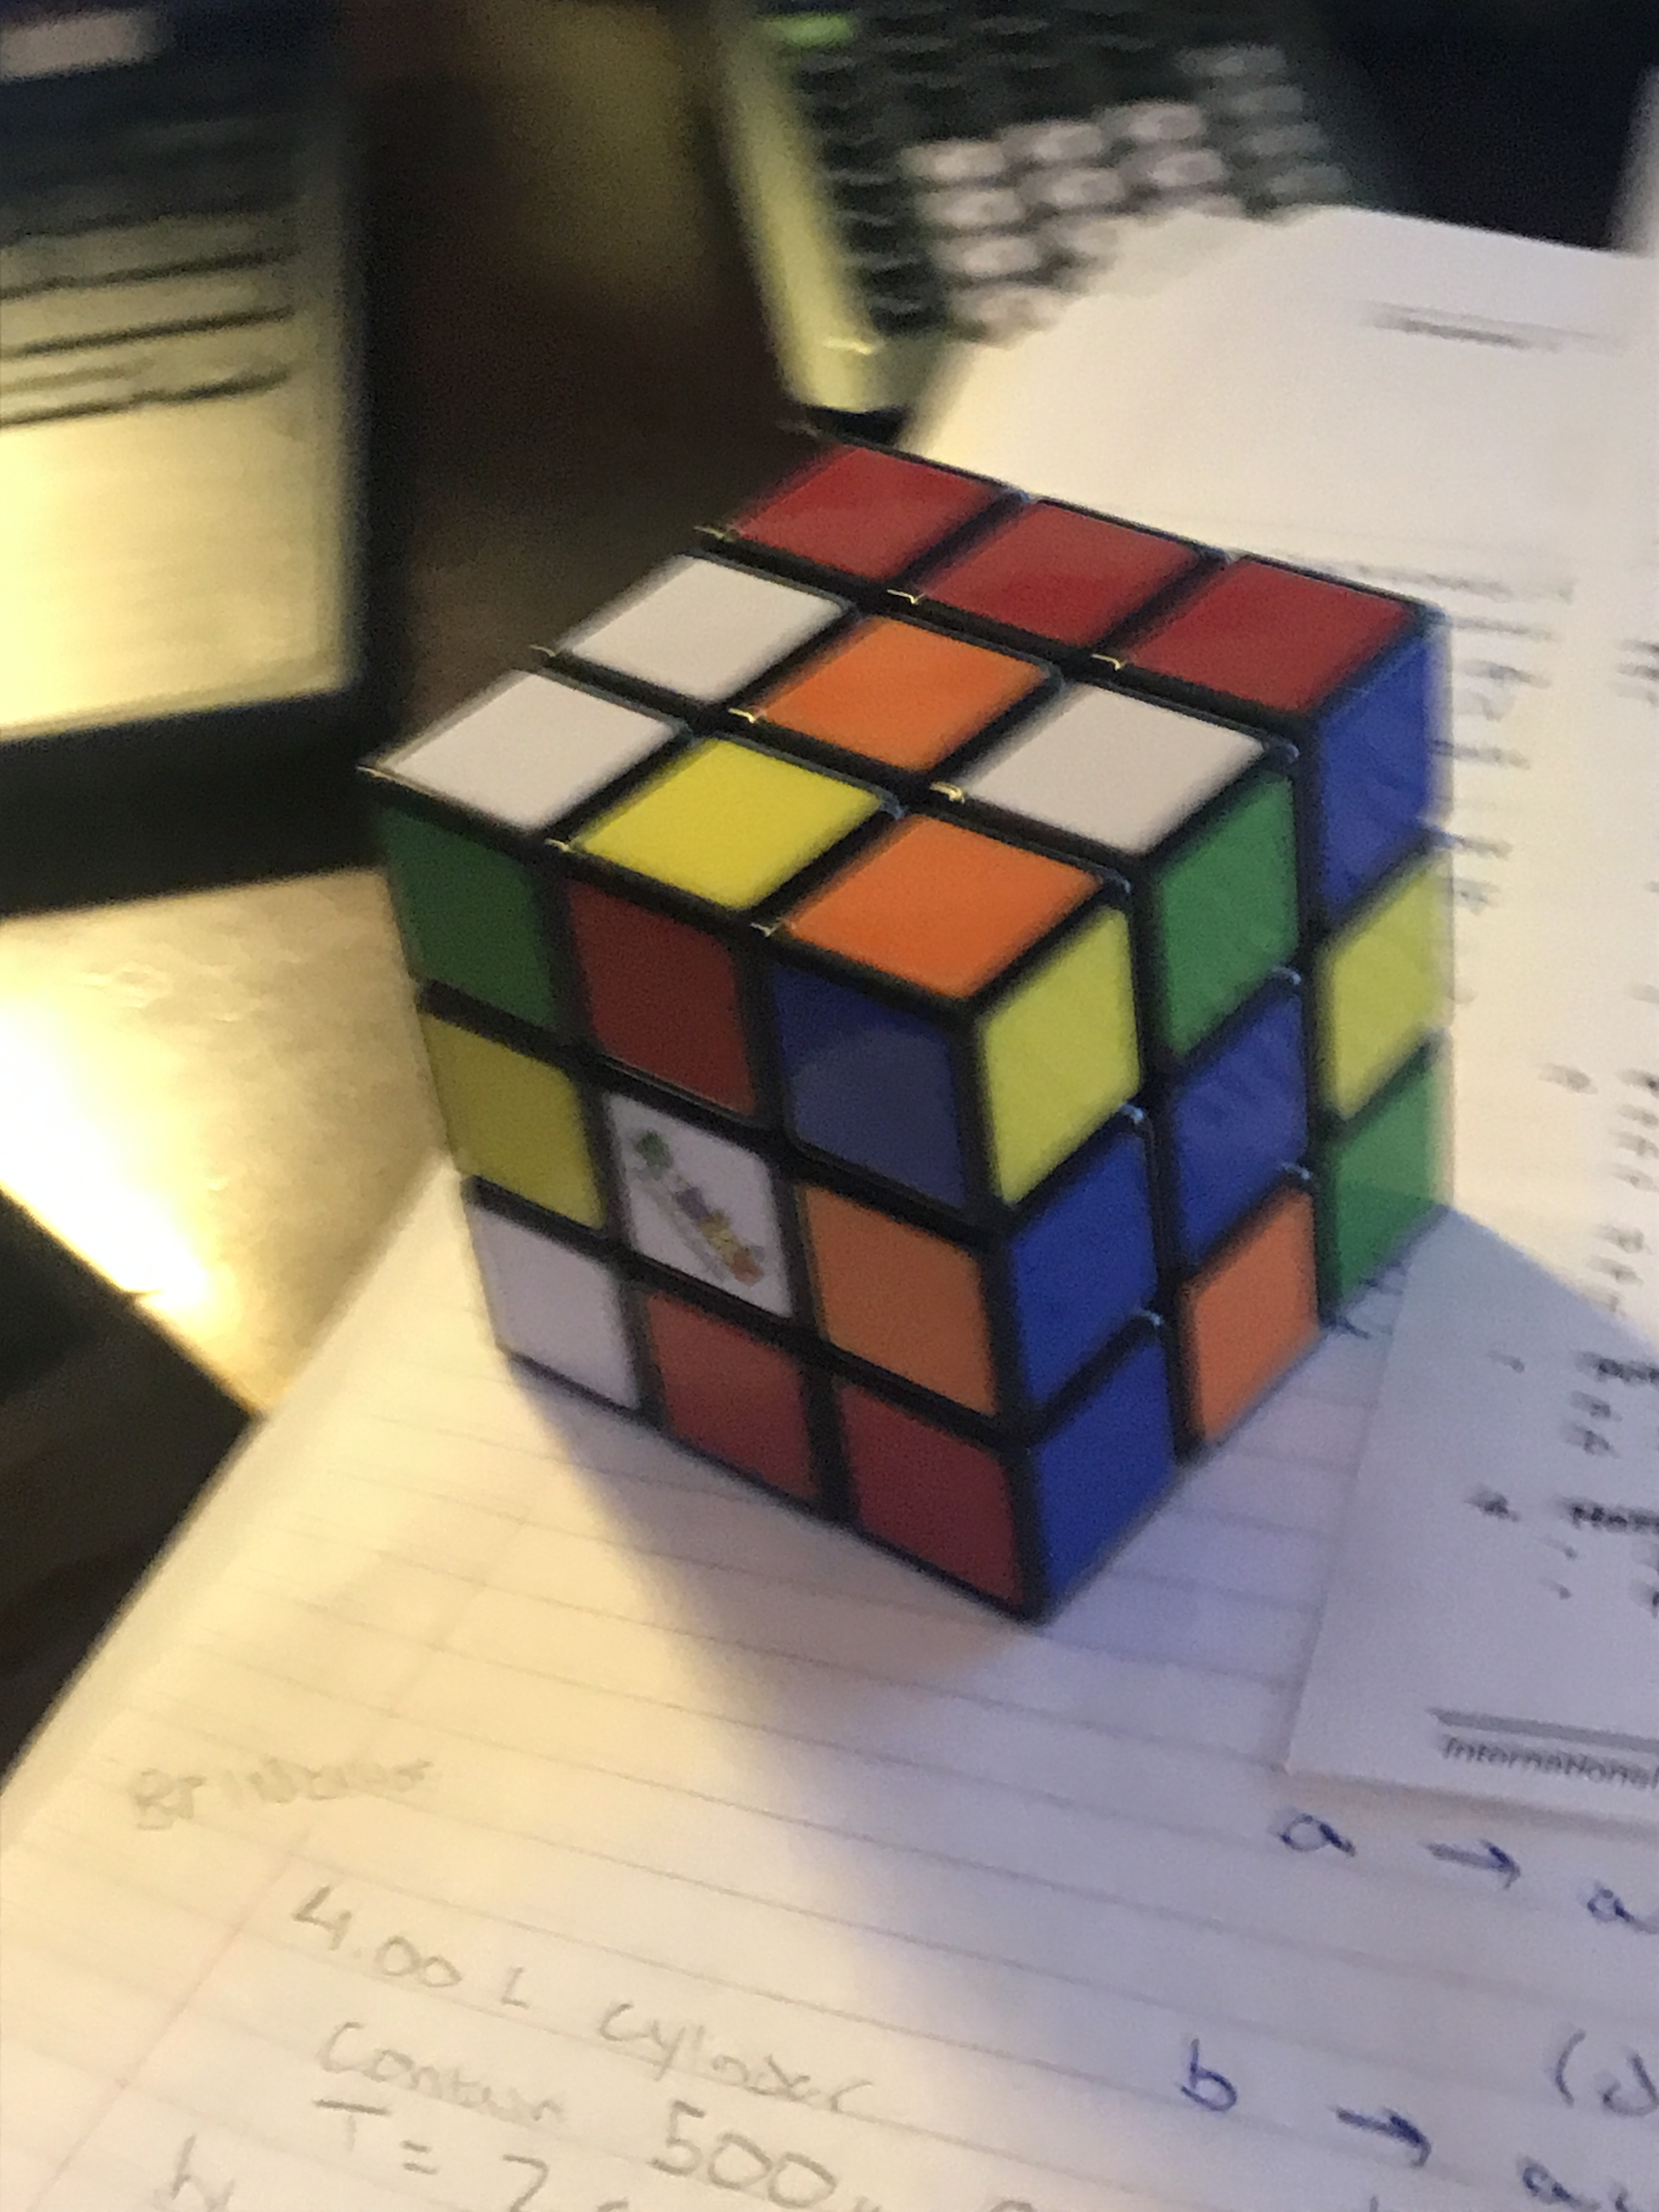rubiks: (359, 435, 1464, 1644)
